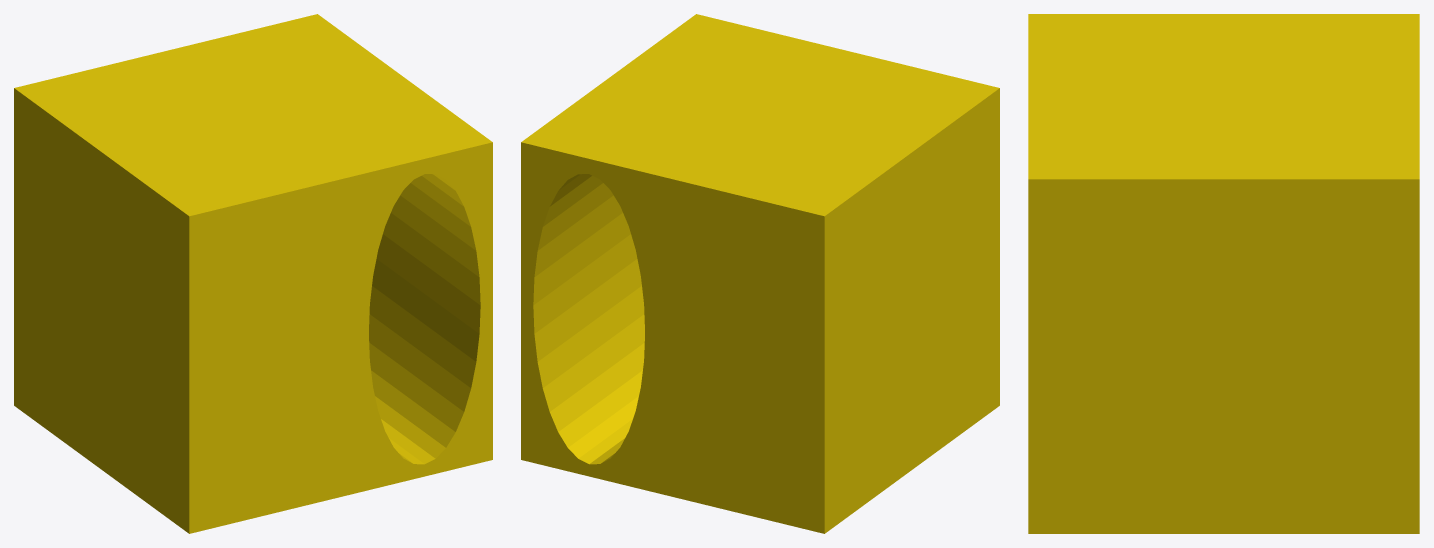
The picture shows the model from 3 angles, left to right: view 1: azimuth 30°, elevation 25°; view 2: azimuth 150°, elevation 25°; view 3: azimuth 270°, elevation 25°; orthographic projection. The views are drawn at different scales.
Visible parts, largest first — view 1: second_rack; view 2: second_rack; view 3: second_rack.
Part boxes in pixels (bbox=[...]): second_rack: bbox=[14, 14, 492, 533]; second_rack: bbox=[521, 14, 999, 533]; second_rack: bbox=[1028, 14, 1419, 533].
Size of the model in its own units: 2 by 2 by 2.
